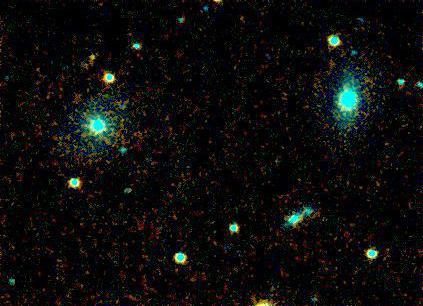star: (77, 41, 107, 71)
